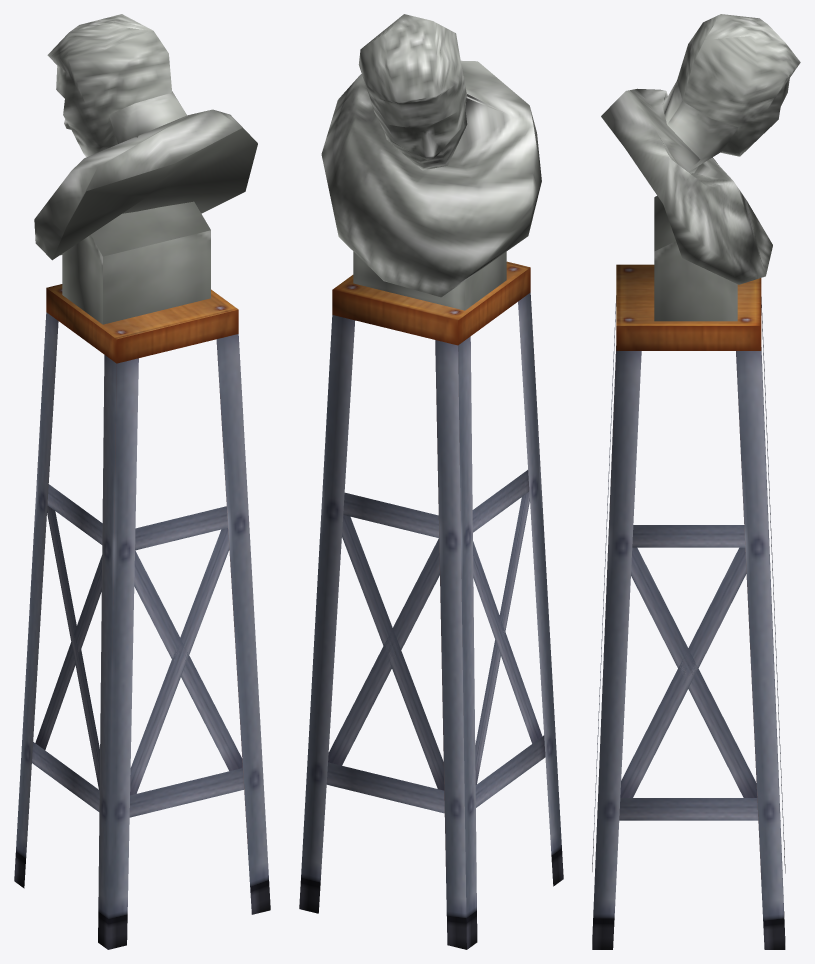
File: a_SCstatue04.glb
3 views of the same model, side by side, from view 1: azimuth 30°, elevation 25°; view 2: azimuth 150°, elevation 25°; view 3: azimuth 270°, elevation 25° (orthographic). The views are drawn at different scales.
Parts seen in each view (by area): view 1: a_SCstatue04; view 2: a_SCstatue04; view 3: a_SCstatue04.
Part boxes in pixels (box(x1,y1,x2,y2)): a_SCstatue04: box(14, 14, 270, 949); a_SCstatue04: box(299, 14, 563, 949); a_SCstatue04: box(592, 14, 800, 949).
Size of the model in its own units: 0.6089 by 2.43 by 0.5183.
3 materials, 3 textured.
